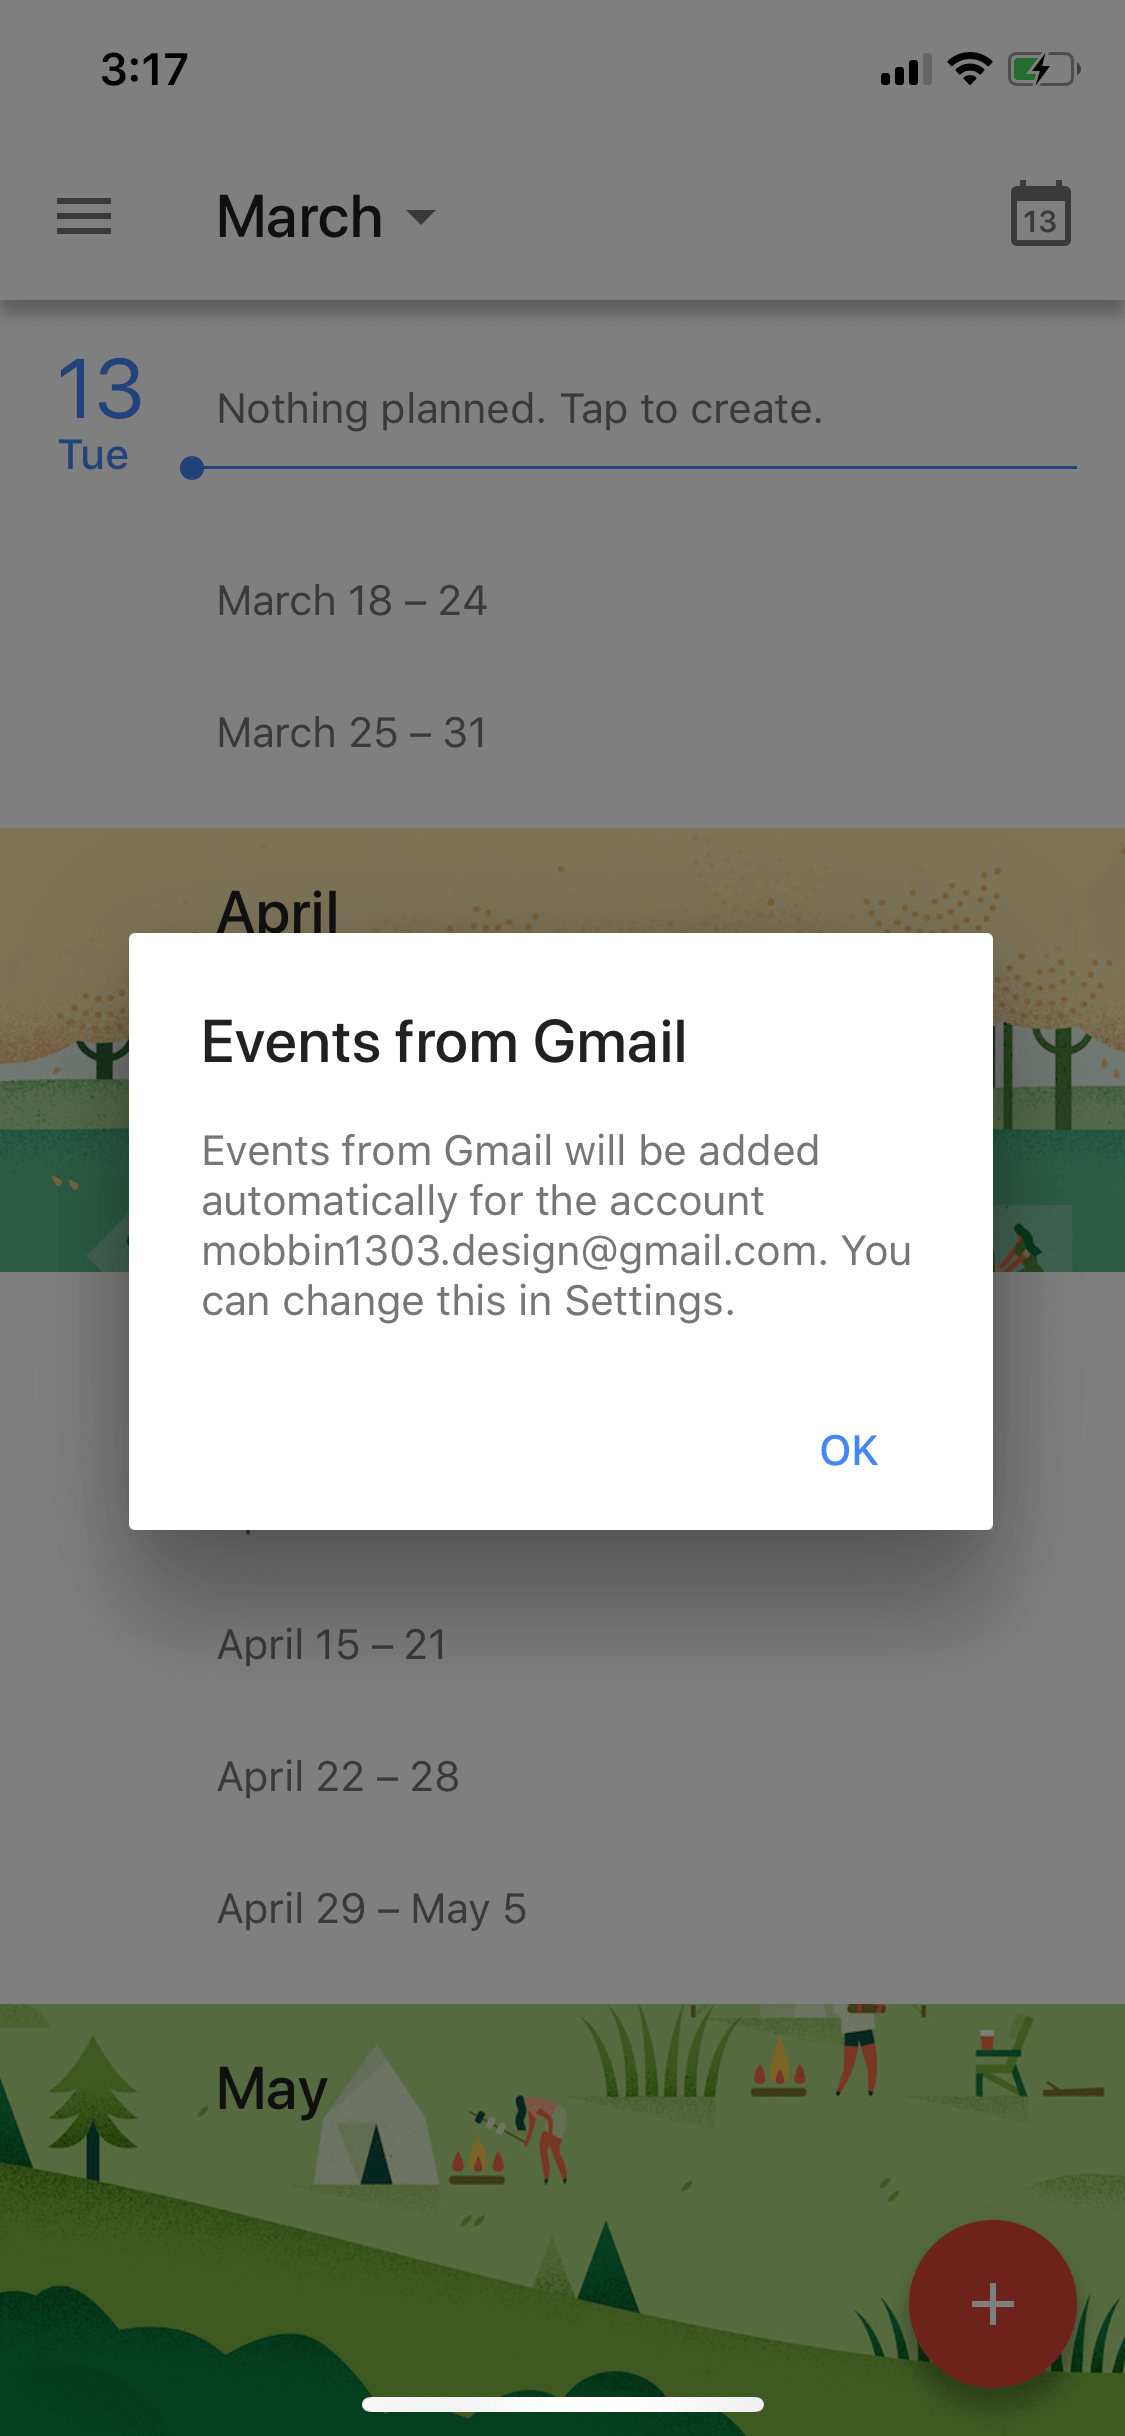Buttons: (193, 152, 475, 280), (765, 1390, 935, 1498), (965, 151, 1102, 280), (17, 154, 148, 280)
FAB (Floating Action Button): (890, 2206, 1092, 2406)
